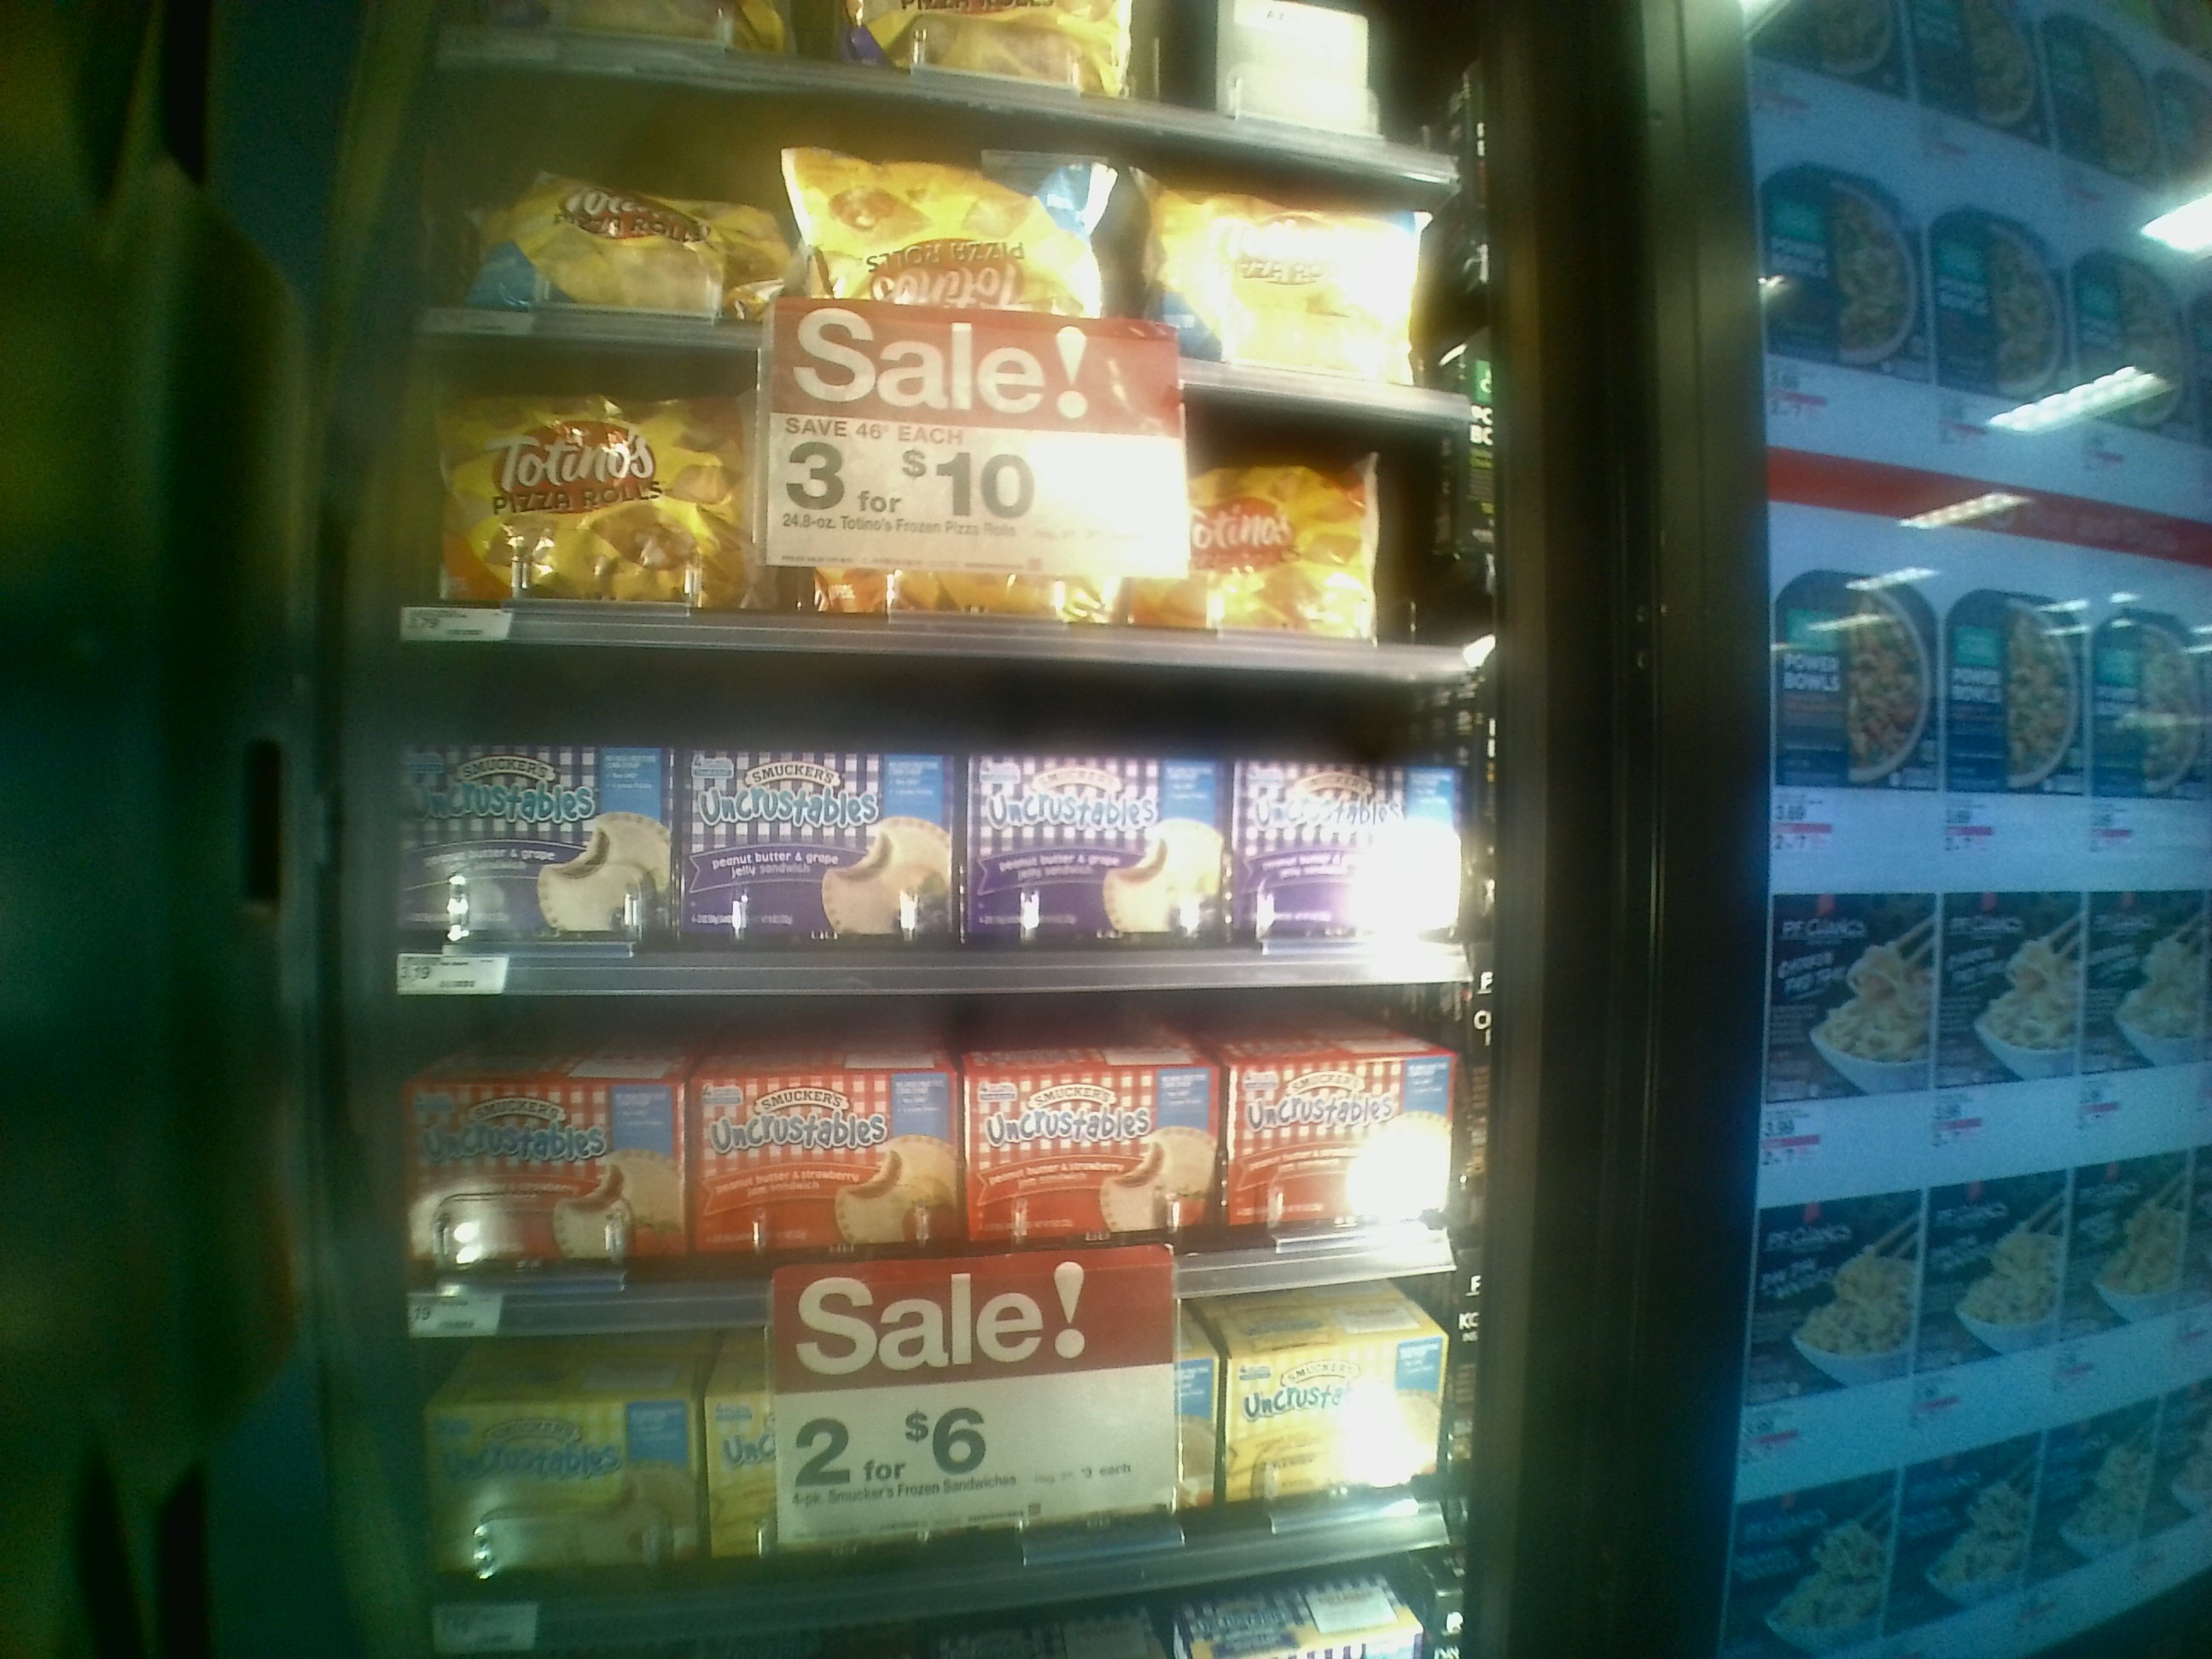shelf: (376, 631, 1486, 988), (376, 999, 1474, 1310), (371, 1330, 1475, 1565)
